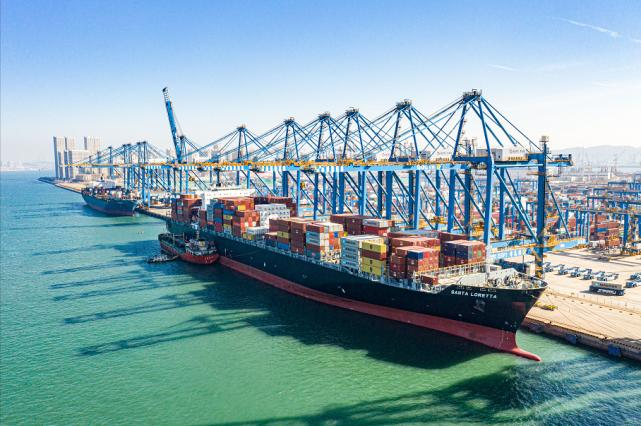Cargoship: (164, 181, 544, 365), (77, 180, 140, 220), (164, 232, 222, 271)
otherboat: (144, 254, 174, 269)
